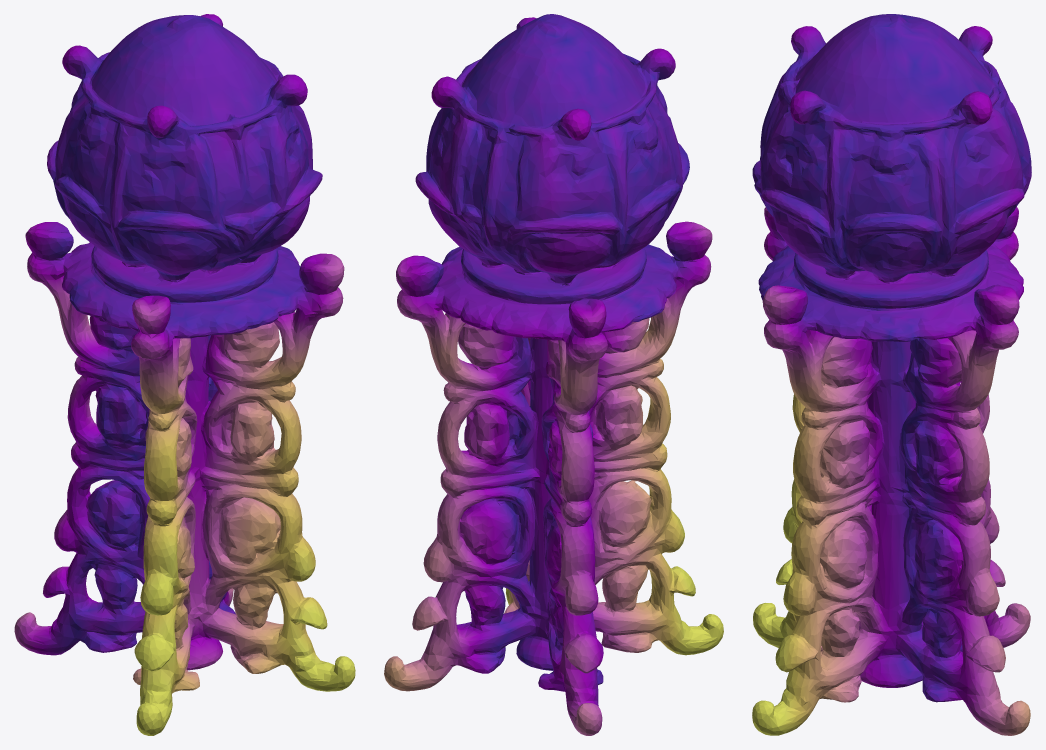
The model's file is iter_3.glb.
3 renders of one model, left to right at view 1: azimuth 30°, elevation 25°; view 2: azimuth 150°, elevation 25°; view 3: azimuth 270°, elevation 25°, orthographic. The views are drawn at different scales.
Parts seen in each view (by area): view 1: textured_mesh; view 2: textured_mesh; view 3: textured_mesh.
Part boxes in pixels (x1,y1,x2,y2): textured_mesh: [14, 14, 355, 735]; textured_mesh: [384, 14, 723, 735]; textured_mesh: [752, 14, 1031, 735].
Size of the model in its own units: 0.7413 by 1.99 by 0.7501.
